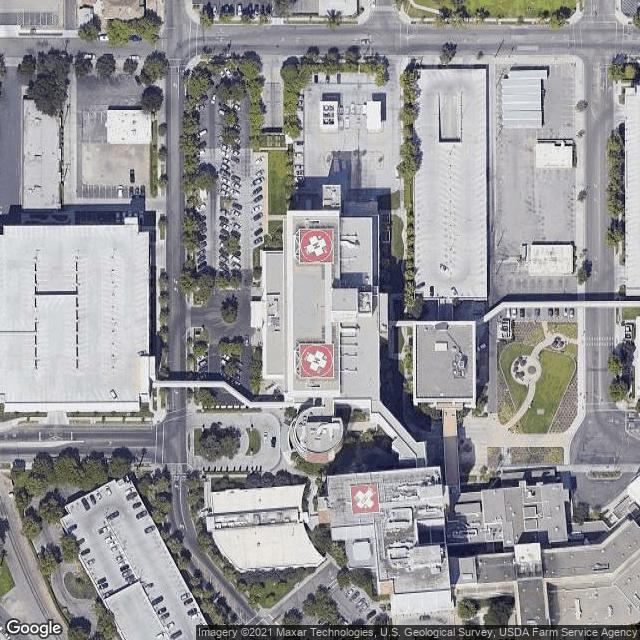Helipad: (298, 226, 335, 266), (297, 341, 335, 378), (349, 484, 379, 513)
